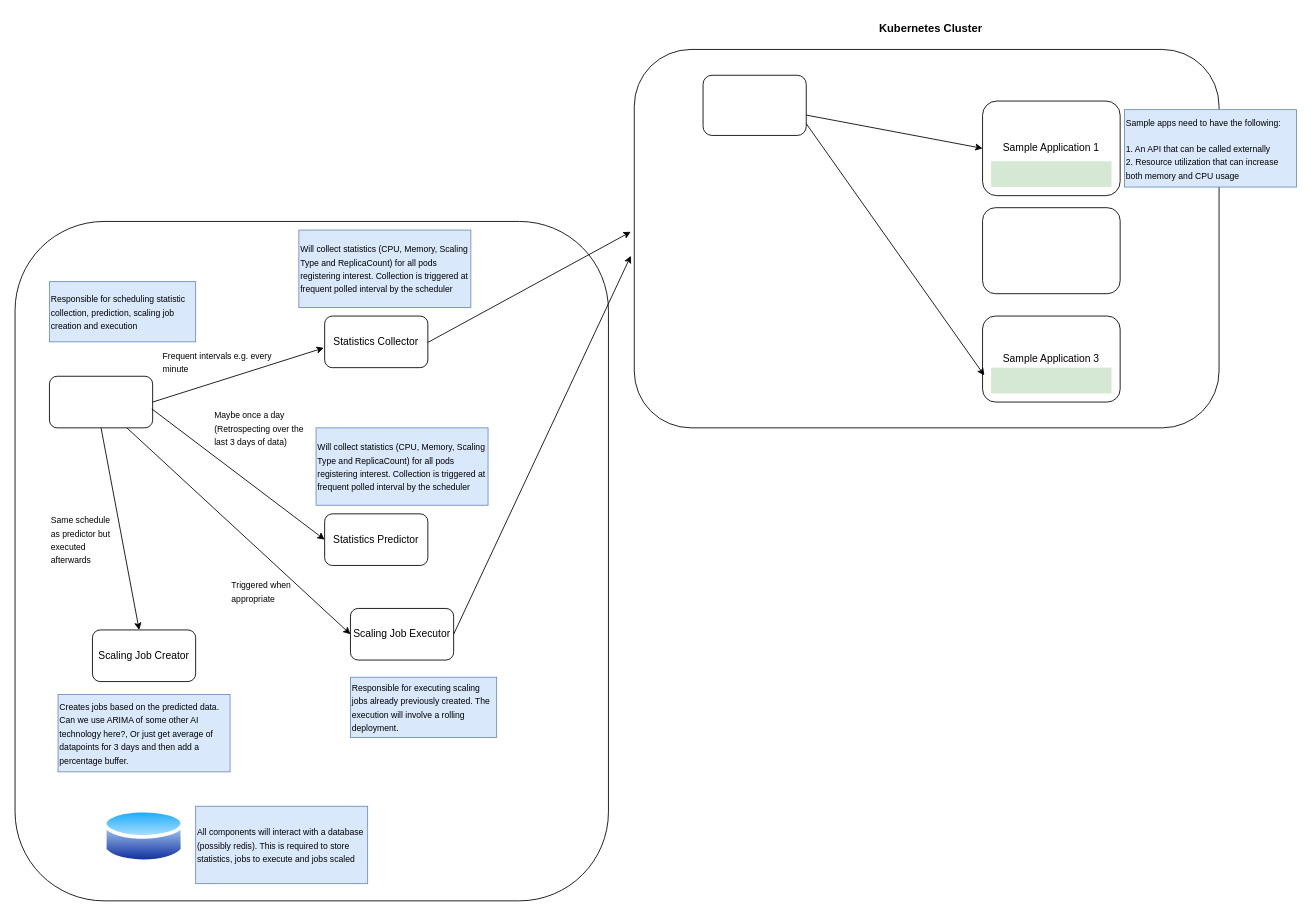
Image size: 1312x916. Some labels were removed from this diagram. Each missing label, with the centre of its shape:
LABEL: HybridScaler:Horizontal: the point at 1051,174
LABEL: HybridScaler:Vertical: the point at 1051,380
Load Simulation: the point at 754,104
Sample Application 2: the point at 1051,250
Scheduler: the point at 101,401
